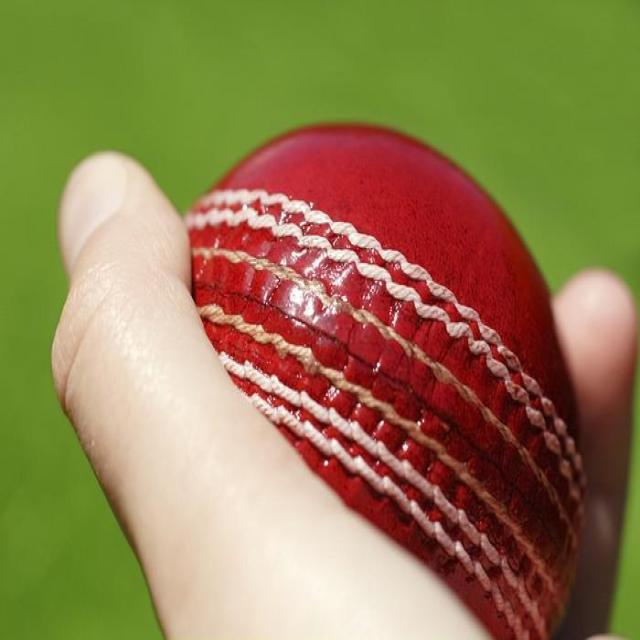ball: (171, 119, 586, 626)
